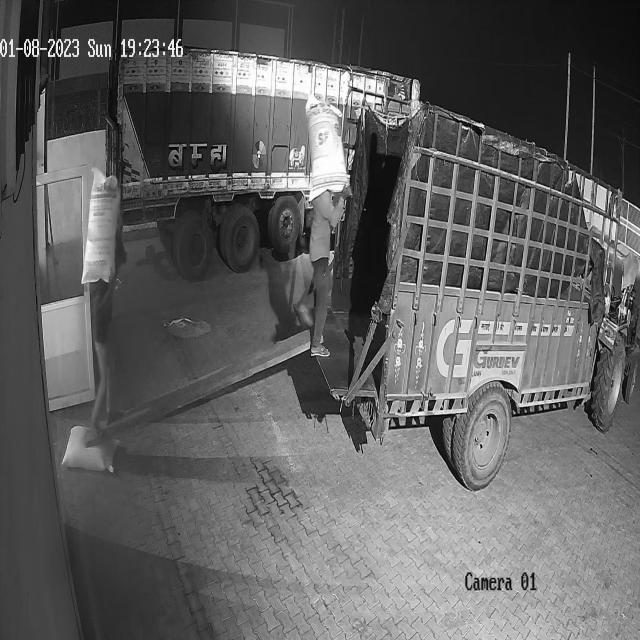sack: (81, 167, 119, 287), (306, 102, 348, 202), (62, 424, 116, 472)
